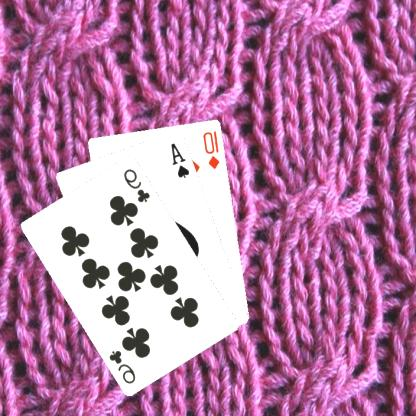10D: (202, 128, 223, 170)
9C: (122, 165, 154, 204), (107, 347, 139, 385)
AS: (170, 139, 192, 179)
